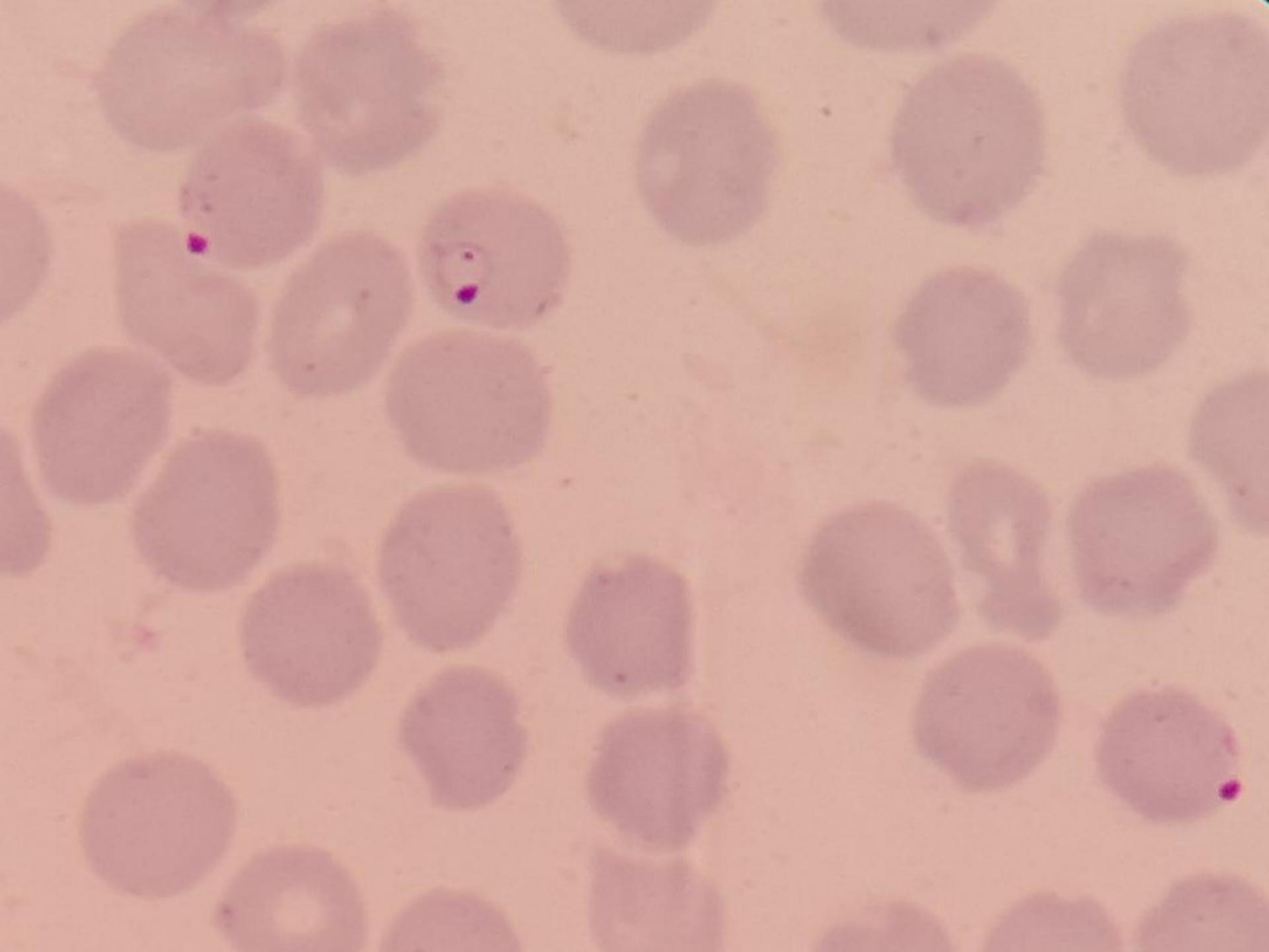Infected: (421, 185, 563, 319)
Uninfected: (897, 55, 1046, 228), (367, 489, 526, 645), (96, 15, 283, 147), (383, 326, 551, 472), (114, 215, 258, 385), (793, 504, 957, 652), (633, 80, 779, 246), (1069, 456, 1215, 618), (266, 228, 410, 392), (291, 23, 442, 176), (76, 750, 238, 892), (25, 350, 172, 505), (950, 450, 1067, 640), (1124, 12, 1261, 174), (132, 438, 276, 590), (912, 643, 1055, 787), (178, 128, 325, 263), (245, 557, 374, 709), (588, 701, 724, 845), (562, 555, 701, 694), (403, 661, 533, 808), (1058, 233, 1191, 376), (896, 265, 1024, 400), (1097, 686, 1228, 817), (225, 841, 356, 952), (593, 849, 724, 952)
